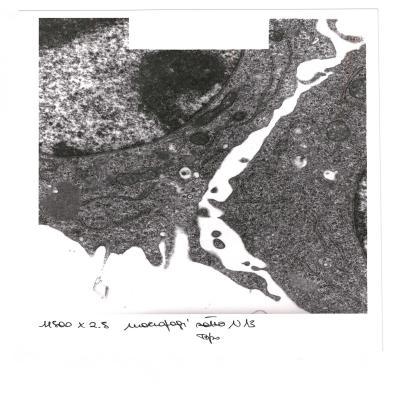mitochondria: (192, 92, 239, 128), (113, 170, 160, 185), (326, 120, 351, 141), (188, 132, 210, 146), (232, 110, 248, 122), (269, 30, 284, 42), (156, 152, 173, 162)
